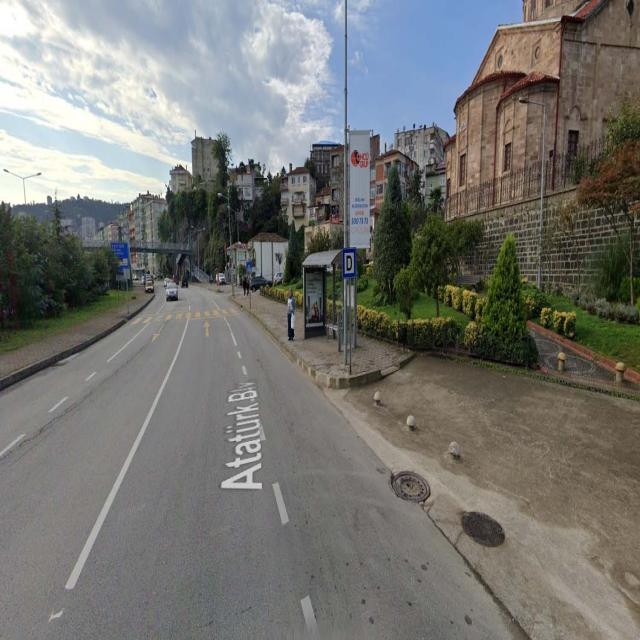durak: (342, 247, 356, 277)
